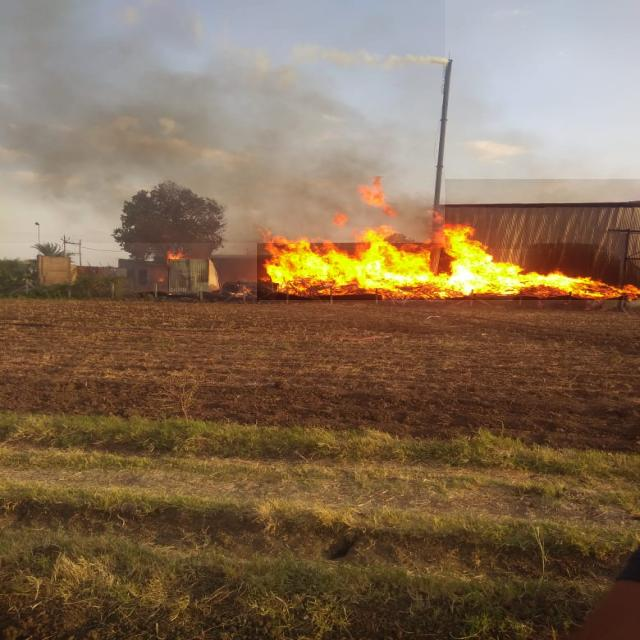Fire: (257, 179, 640, 300)
Smoke: (0, 0, 445, 243)
